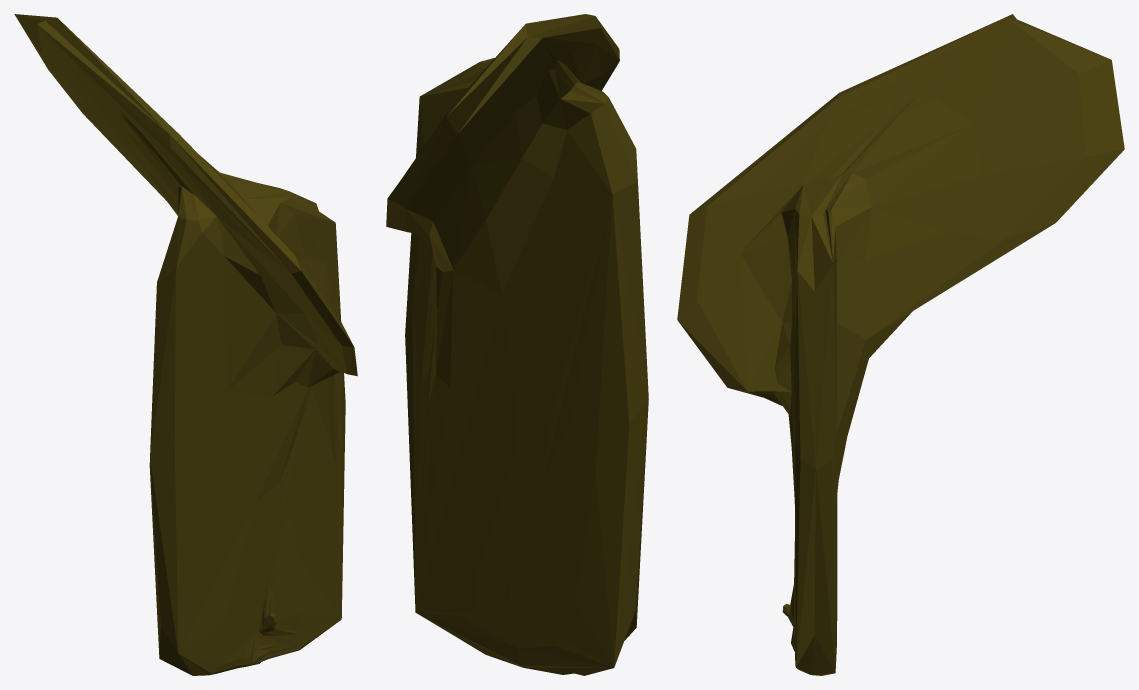
The picture shows the model from 3 angles, left to right: view 1: azimuth 30°, elevation 25°; view 2: azimuth 150°, elevation 25°; view 3: azimuth 270°, elevation 25°; orthographic projection. The views are drawn at different scales.
Visible parts, largest first — view 1: 081_Cube.335; view 2: 081_Cube.335; view 3: 081_Cube.335.
Boxes of the visible parts, x1,y1,x2,y2 form: 081_Cube.335: (14,14,357,675); 081_Cube.335: (386,14,648,675); 081_Cube.335: (677,14,1124,675).
Size of the model in its own units: 5.56 by 15.67 by 10.65.
